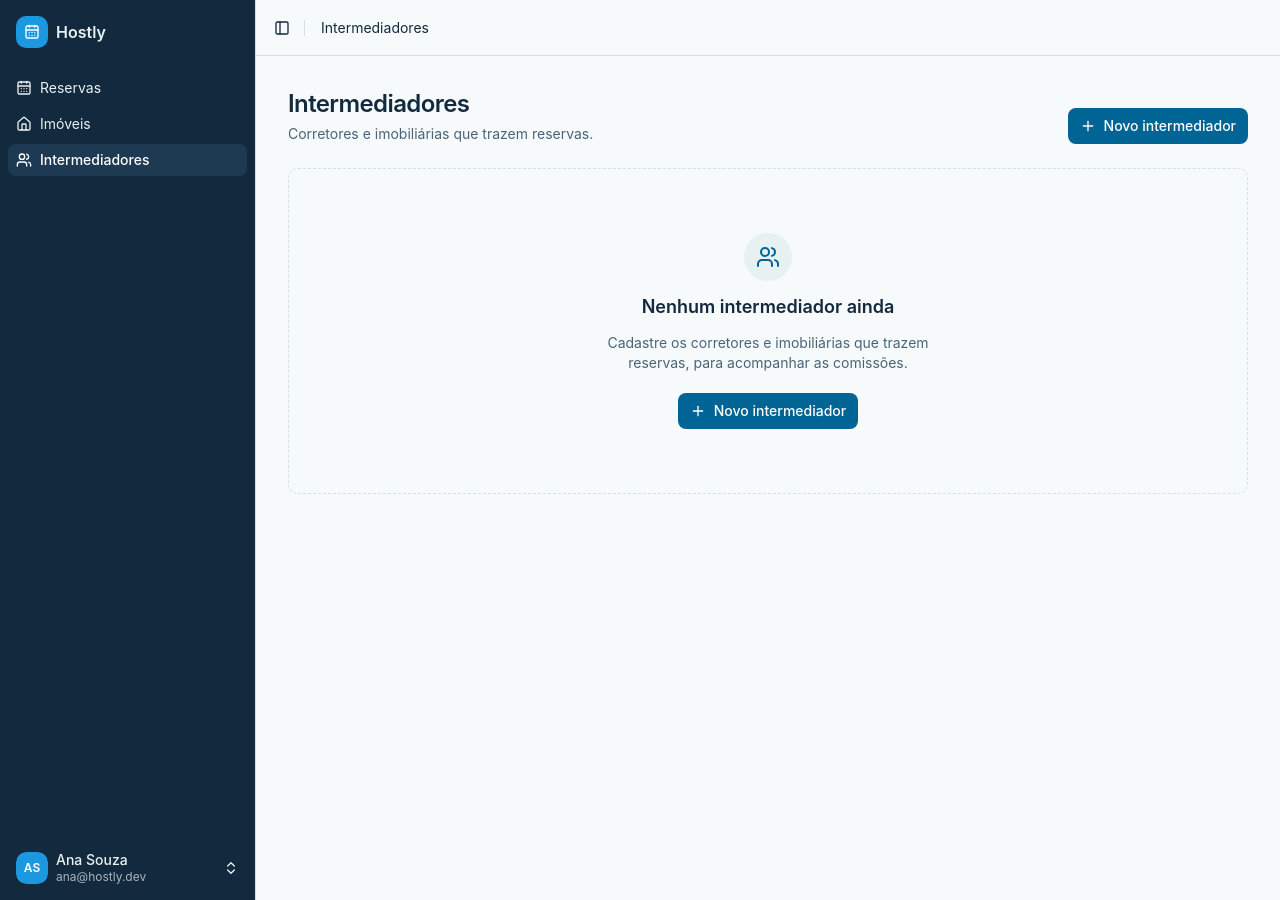
Test: creating a broker › re-masks the document when the type changes
Expected: the heading "Intermediadores" is shown, [288, 89, 469, 118]
Click the 1st button "Novo intermediador".
click(1158, 126)  # box [1068, 108, 1248, 144]
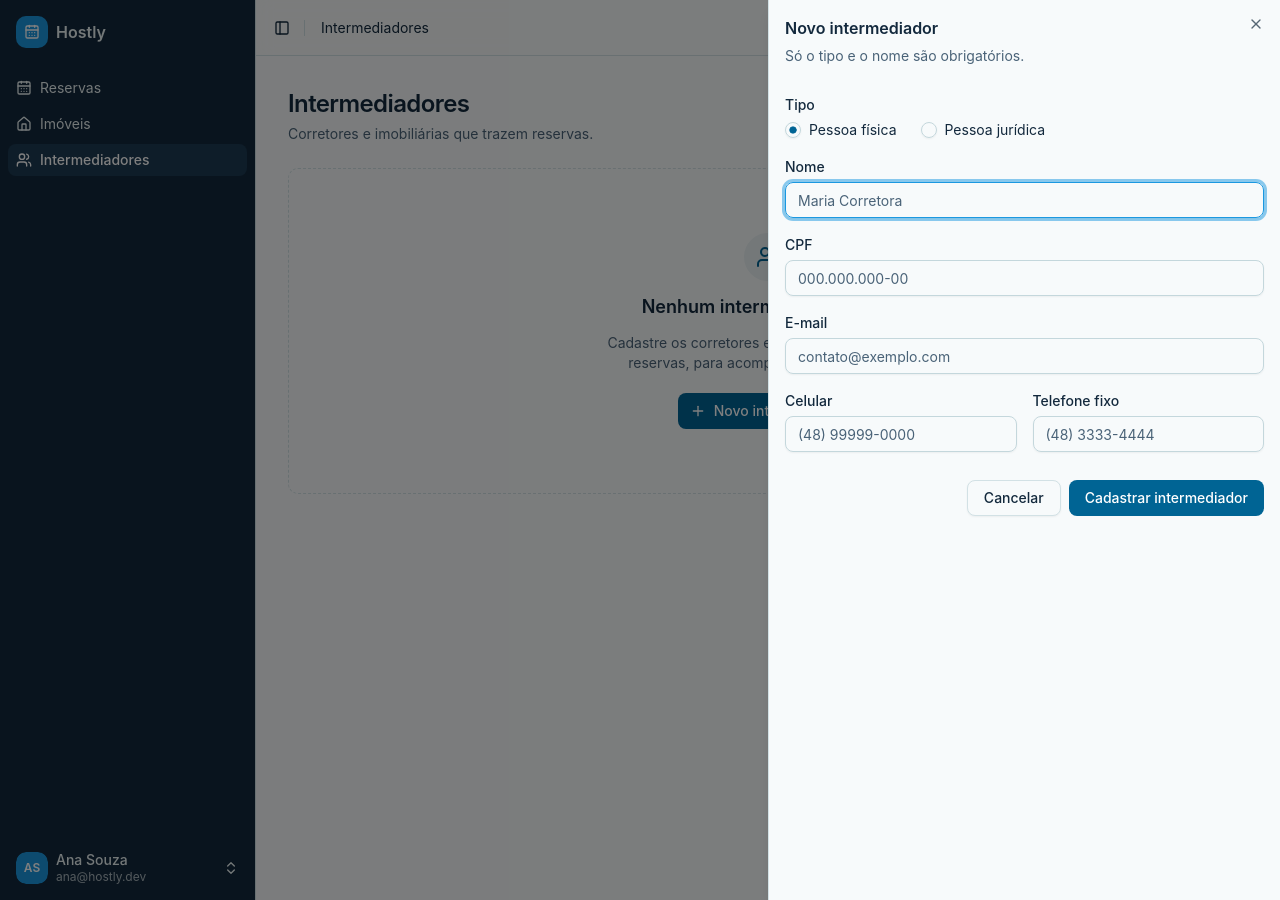
Click the radio button named "Pessoa jurídica" next to "Pessoa jurídica".
click(928, 130)  # box [920, 122, 936, 138]
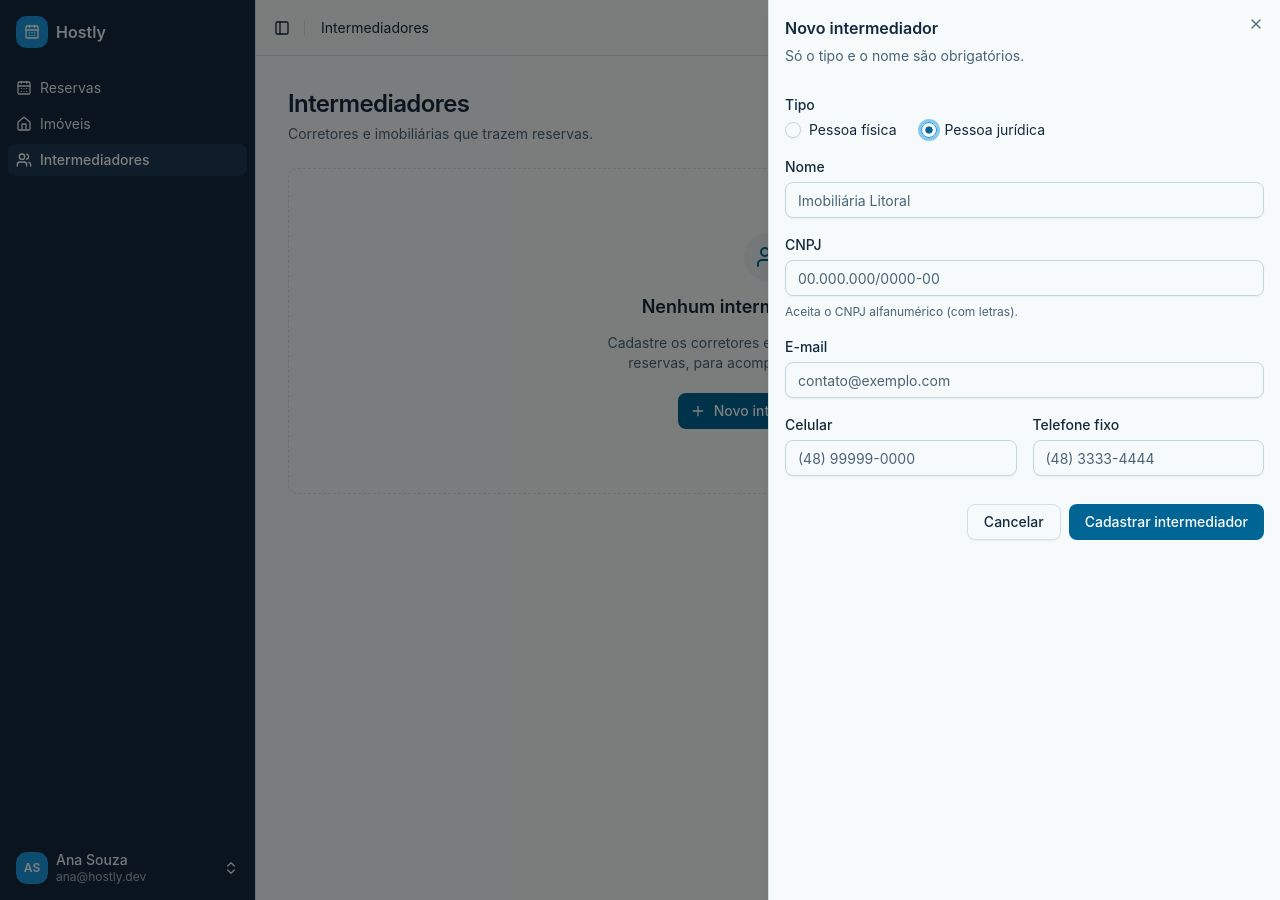
Type "11222333000181" into the field labelled "CNPJ".
click(1024, 278); type("11222333000181")  # box [785, 260, 1264, 296]
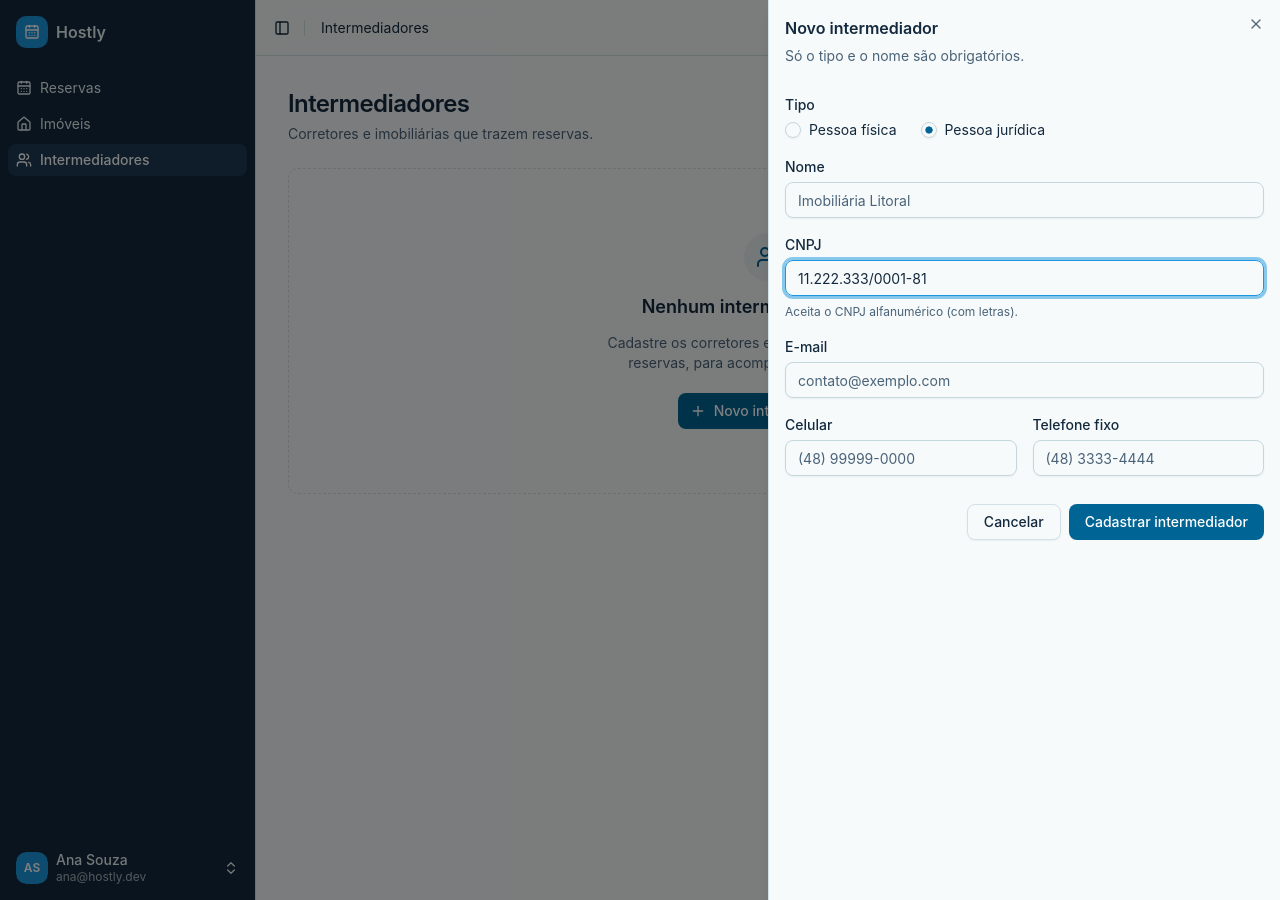
Click the radio button named "Pessoa física" next to "Pessoa física".
click(793, 130)  # box [785, 122, 801, 138]
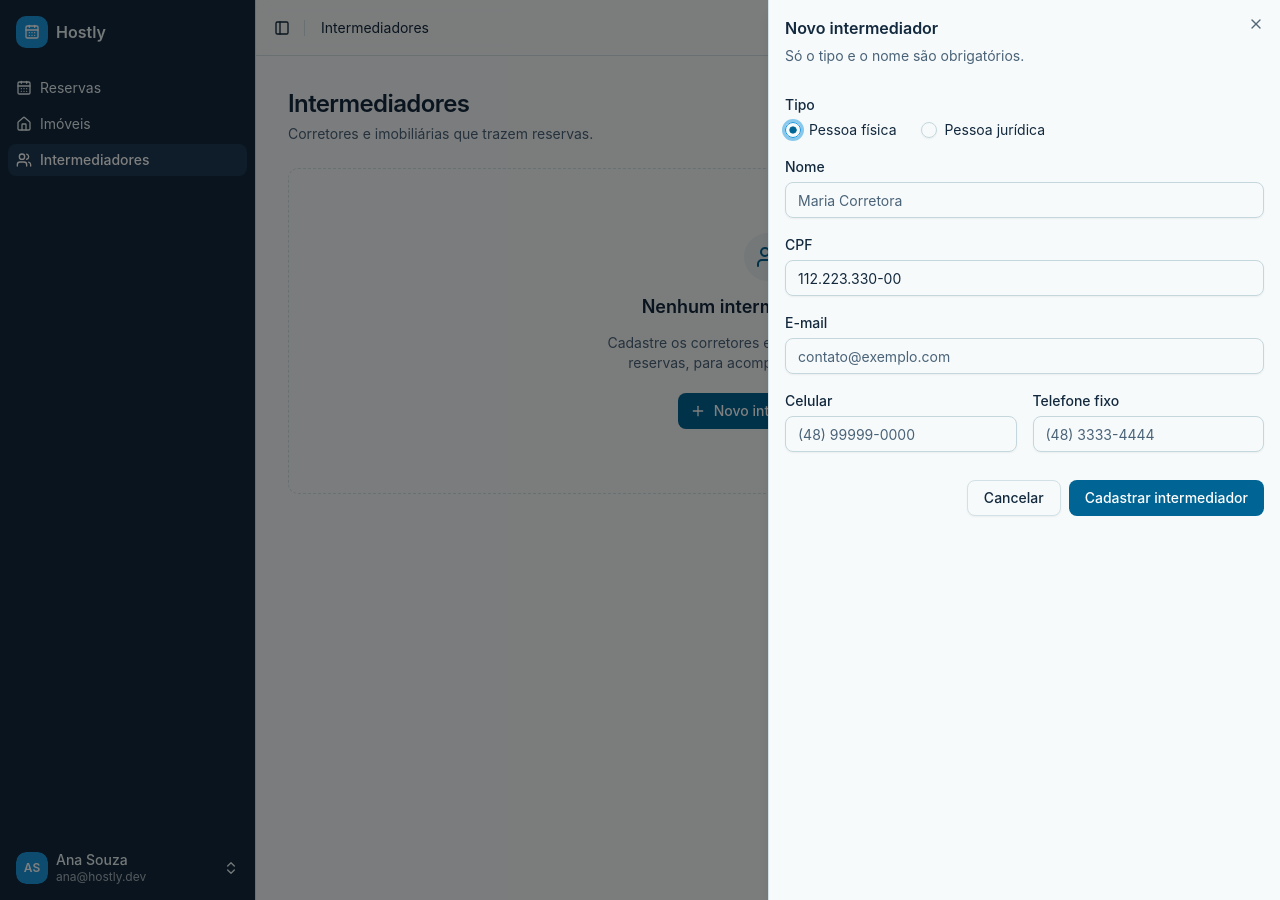
Result: the field labelled "CPF" holds "112.223.330-00" at [785, 260, 1264, 296]
